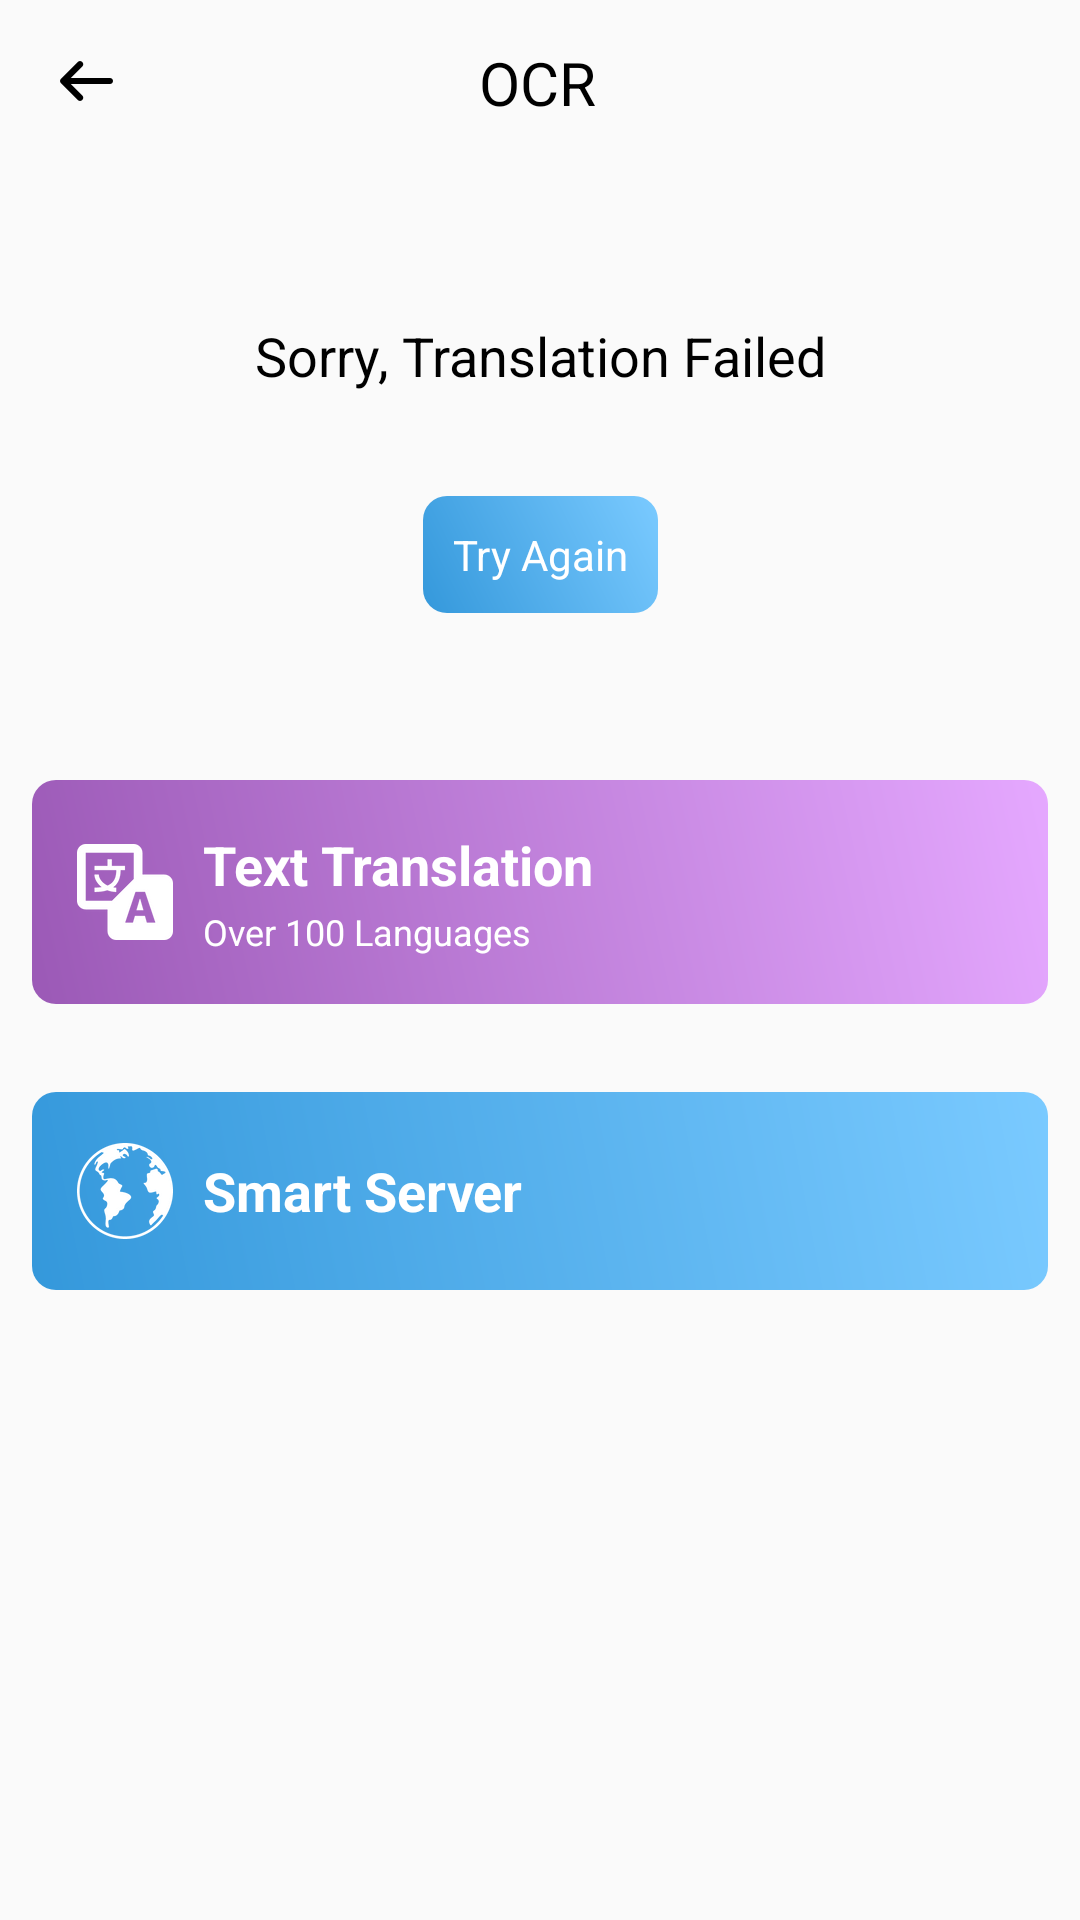

Where icons sit on this 1080 x 1920 app screen, as box=[x1, y1, x2, y2]:
back: box=[60, 61, 113, 101]
text translate: box=[77, 844, 173, 940]
